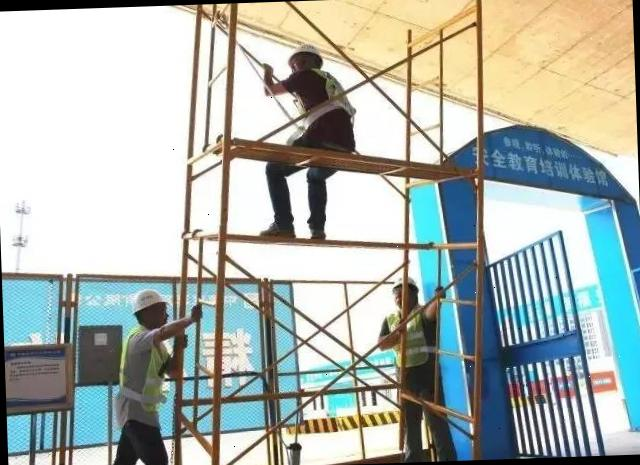helmet: (130, 286, 168, 314), (282, 40, 325, 64), (388, 274, 414, 293)
wear: (118, 324, 176, 412), (386, 306, 436, 373)
